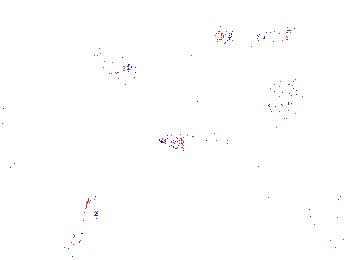X-ray fish: (80, 52, 139, 91)
glassfish: (65, 163, 123, 250), (155, 128, 263, 159)
red belly glassfish: (260, 103, 299, 121), (267, 80, 299, 99)
redtail glassfish: (215, 20, 299, 50)
